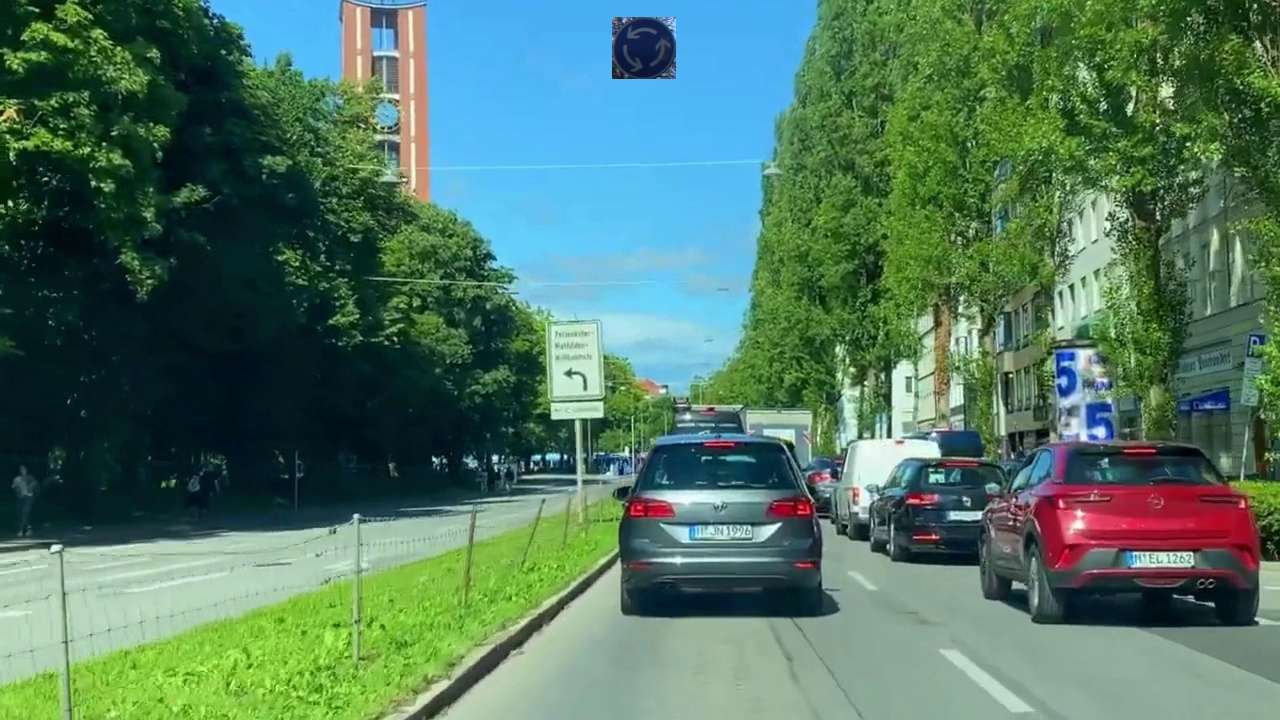Roundabout: (612, 17, 676, 79)
